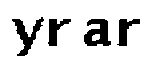a: (80, 18, 113, 50)
r: (48, 15, 73, 49), (116, 17, 143, 48)
y: (8, 15, 43, 56)
